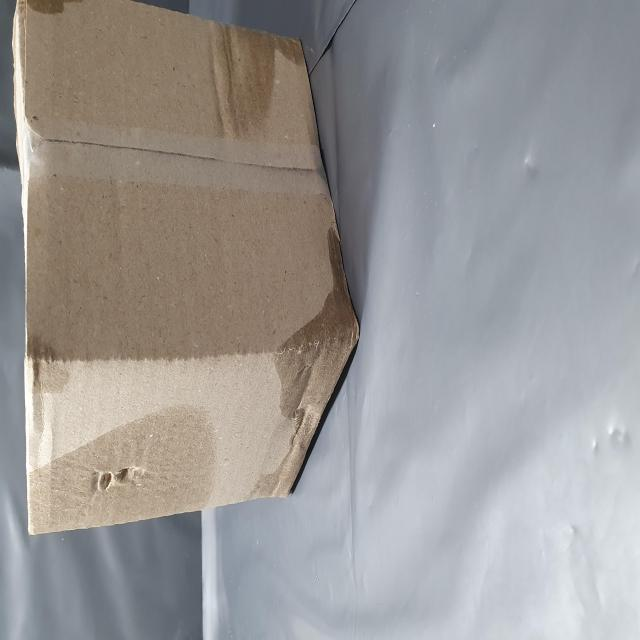wet: (81, 453, 240, 640), (58, 61, 138, 384), (286, 374, 350, 543)
